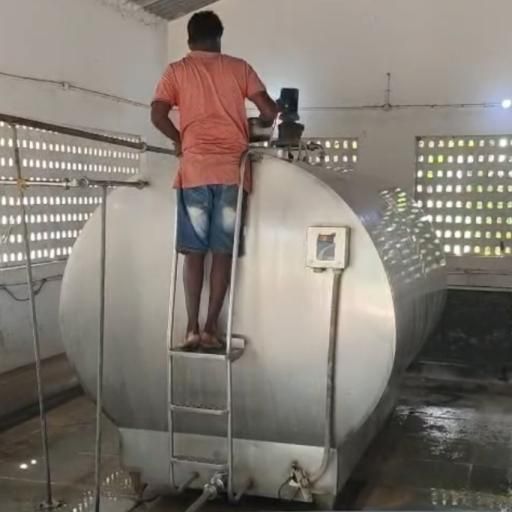silo: (54, 144, 450, 502)
vessel: (248, 117, 274, 142)
